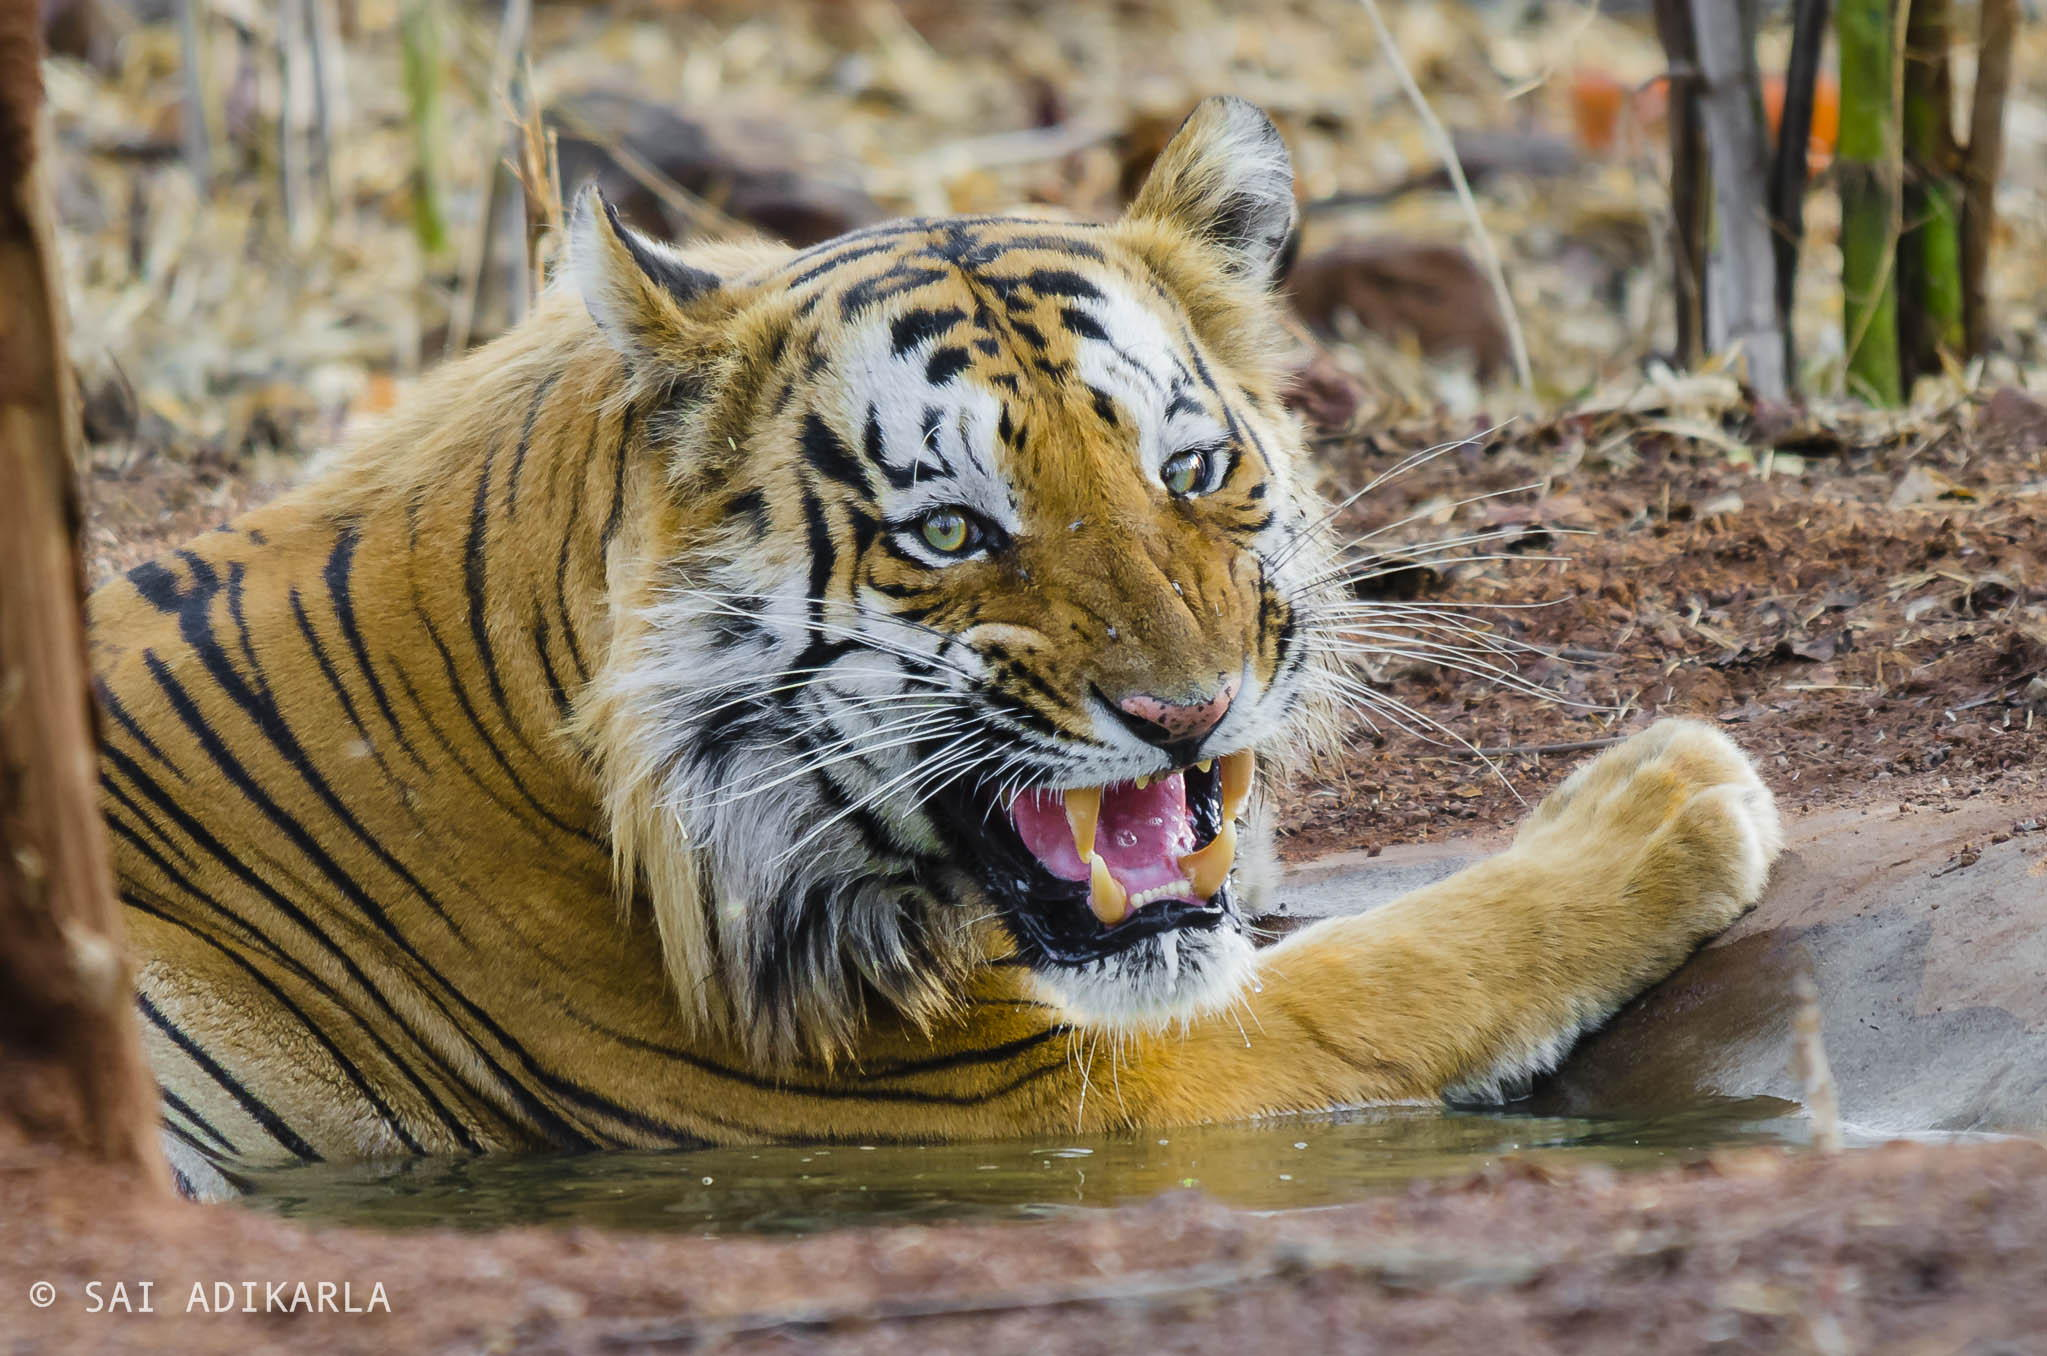tiger: (203, 176, 1757, 1143)
